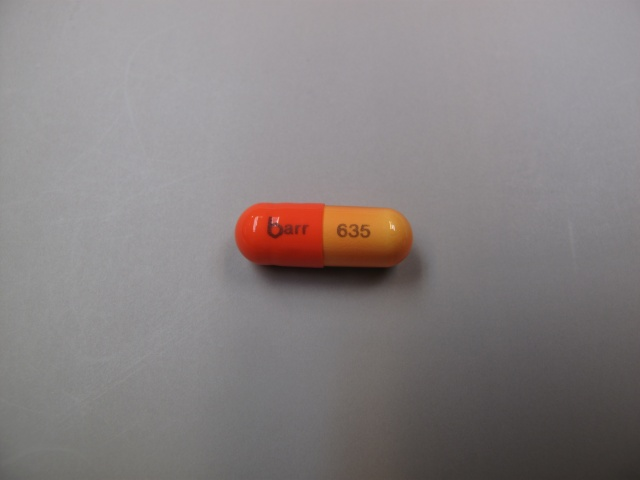capsule: (232, 200, 416, 269)
